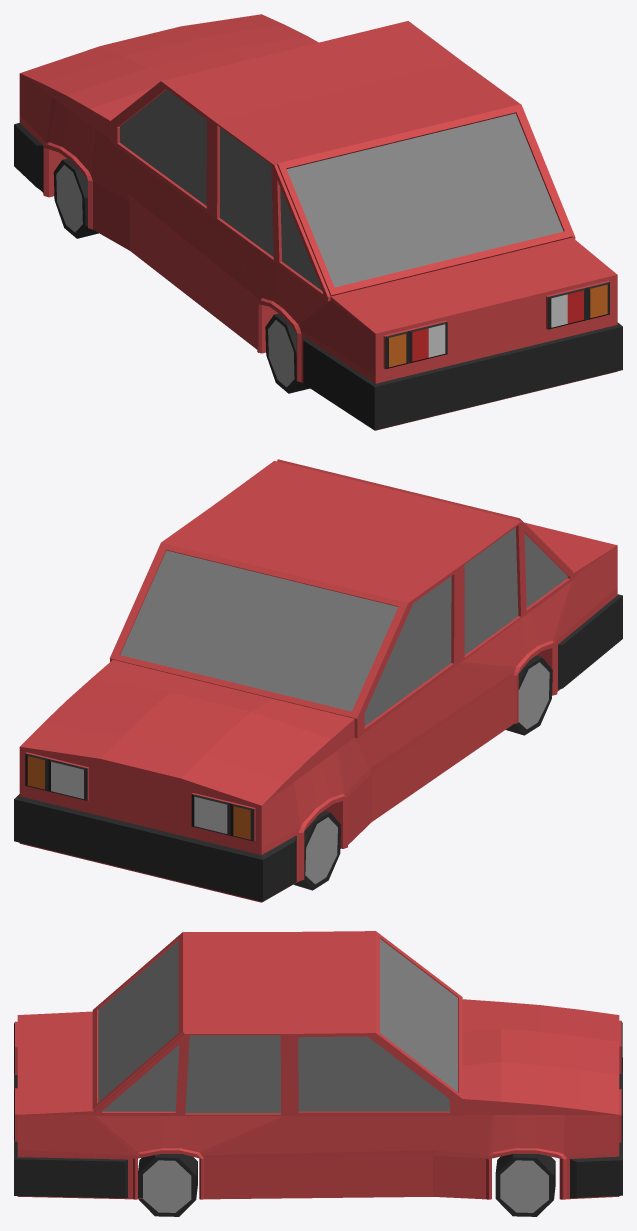
File: Car1RedColoured.fbx
The picture shows the model from 3 angles, top to bottom: view 1: azimuth 30°, elevation 25°; view 2: azimuth 150°, elevation 25°; view 3: azimuth 270°, elevation 25°; orthographic projection. The views are drawn at different scales.
Parts seen in each view (by area): view 1: Cube; view 2: Cube, Cube.006, Cube.005; view 3: Cube.
Part boxes in pixels (left/top/right/bottom): Cube: left=14, top=14, right=622, bottom=430; Cube: left=14, top=459, right=622, bottom=902; Cube.006: left=191, top=793, right=255, bottom=841; Cube.005: left=25, top=752, right=88, bottom=800; Cube: left=14, top=931, right=622, bottom=1216.
Bounding box in the file's own units: 250 × 200 × 600.
